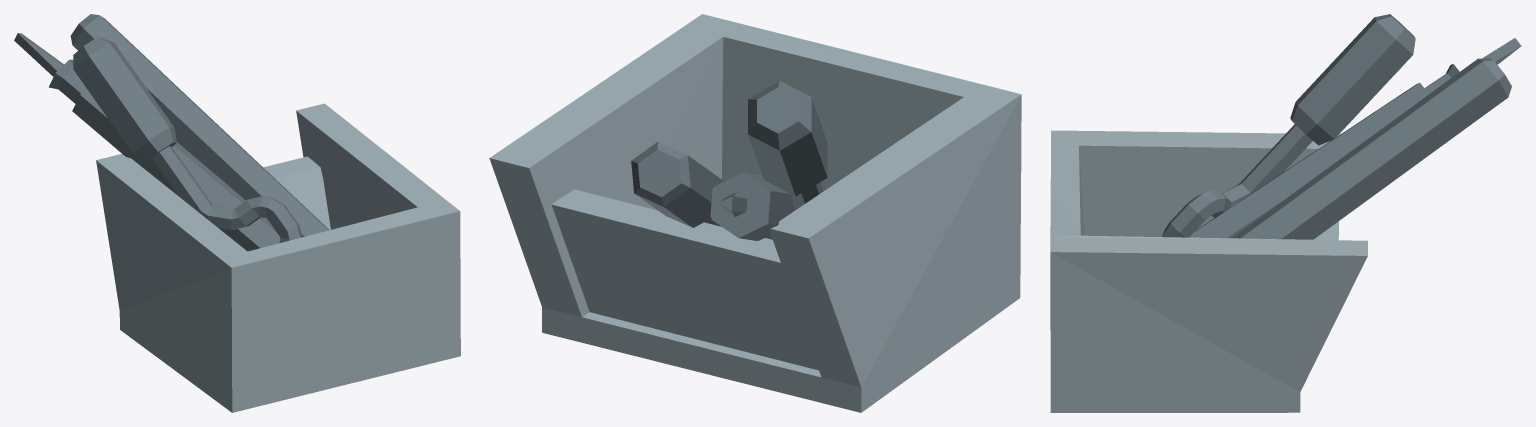
The model's file is tools_set.glb.
3 renders of one model, left to right at view 1: azimuth 30°, elevation 25°; view 2: azimuth 150°, elevation 25°; view 3: azimuth 270°, elevation 25°, orthographic. The views are drawn at different scales.
Parts seen in each view (by area): view 1: tools_set; view 2: tools_set; view 3: tools_set.
Boxes of the visible parts, x1=… form: tools_set: x1=14, y1=14, x2=460, y2=412; tools_set: x1=489, y1=14, x2=1021, y2=412; tools_set: x1=1050, y1=14, x2=1521, y2=412.
Bounding box in the file's own units: 0.3165 × 0.3231 × 0.484.
